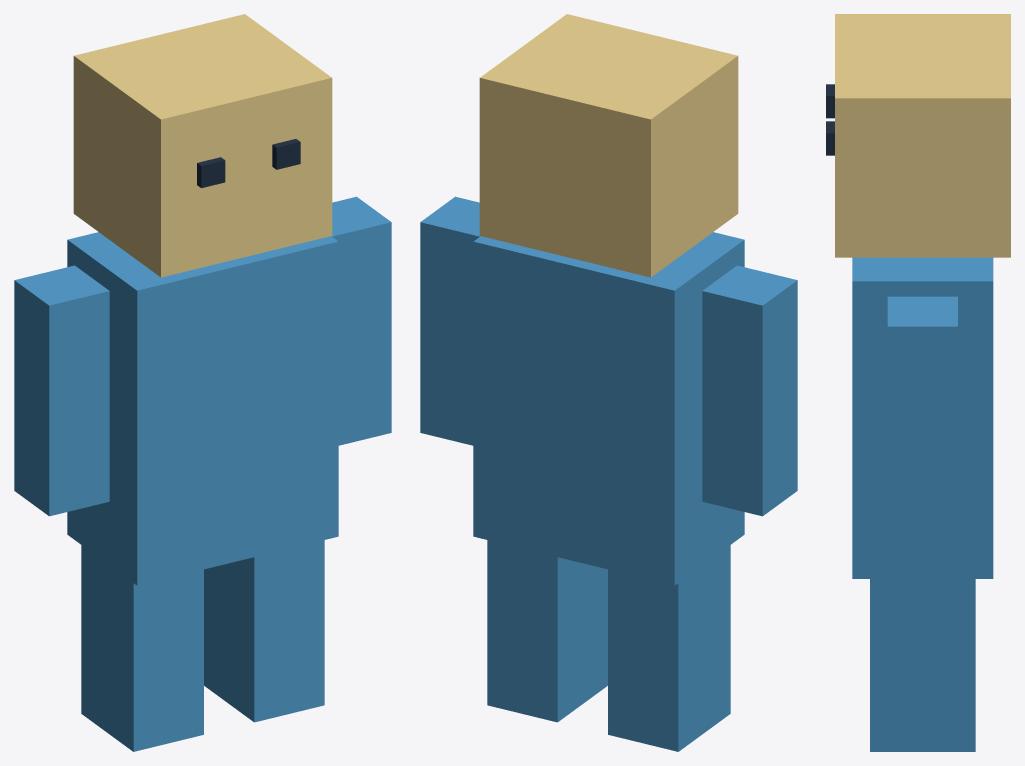
File: robot.glb
The picture shows the model from 3 angles, left to right: view 1: azimuth 30°, elevation 25°; view 2: azimuth 150°, elevation 25°; view 3: azimuth 270°, elevation 25°; orthographic projection.
Visible parts, largest first — view 1: Torso, Head, Left arm, Left leg, Right leg, Right arm, Right eye, Left eye; view 2: Torso, Head, Left arm, Left leg, Right leg, Right arm; view 3: Head, Torso, Right leg, Right arm.
Part boxes in pixels (x1,y1,x2,y2): Torso: [67, 232, 338, 585]; Head: [73, 14, 332, 277]; Left arm: [14, 265, 109, 516]; Left leg: [81, 545, 203, 751]; Right leg: [204, 540, 324, 722]; Right arm: [331, 196, 391, 445]; Right eye: [272, 139, 300, 169]; Left eye: [197, 157, 225, 188]; Torso: [473, 232, 744, 585]; Head: [479, 14, 738, 277]; Left arm: [702, 265, 797, 516]; Left leg: [608, 545, 730, 751]; Right leg: [487, 540, 607, 722]; Right arm: [420, 196, 480, 445]; Head: [835, 14, 1010, 257]; Torso: [852, 257, 993, 578]; Right leg: [870, 579, 975, 751]; Right arm: [887, 296, 957, 539].
Size of the model in its own units: 1.7 by 3.05 by 0.7875.
